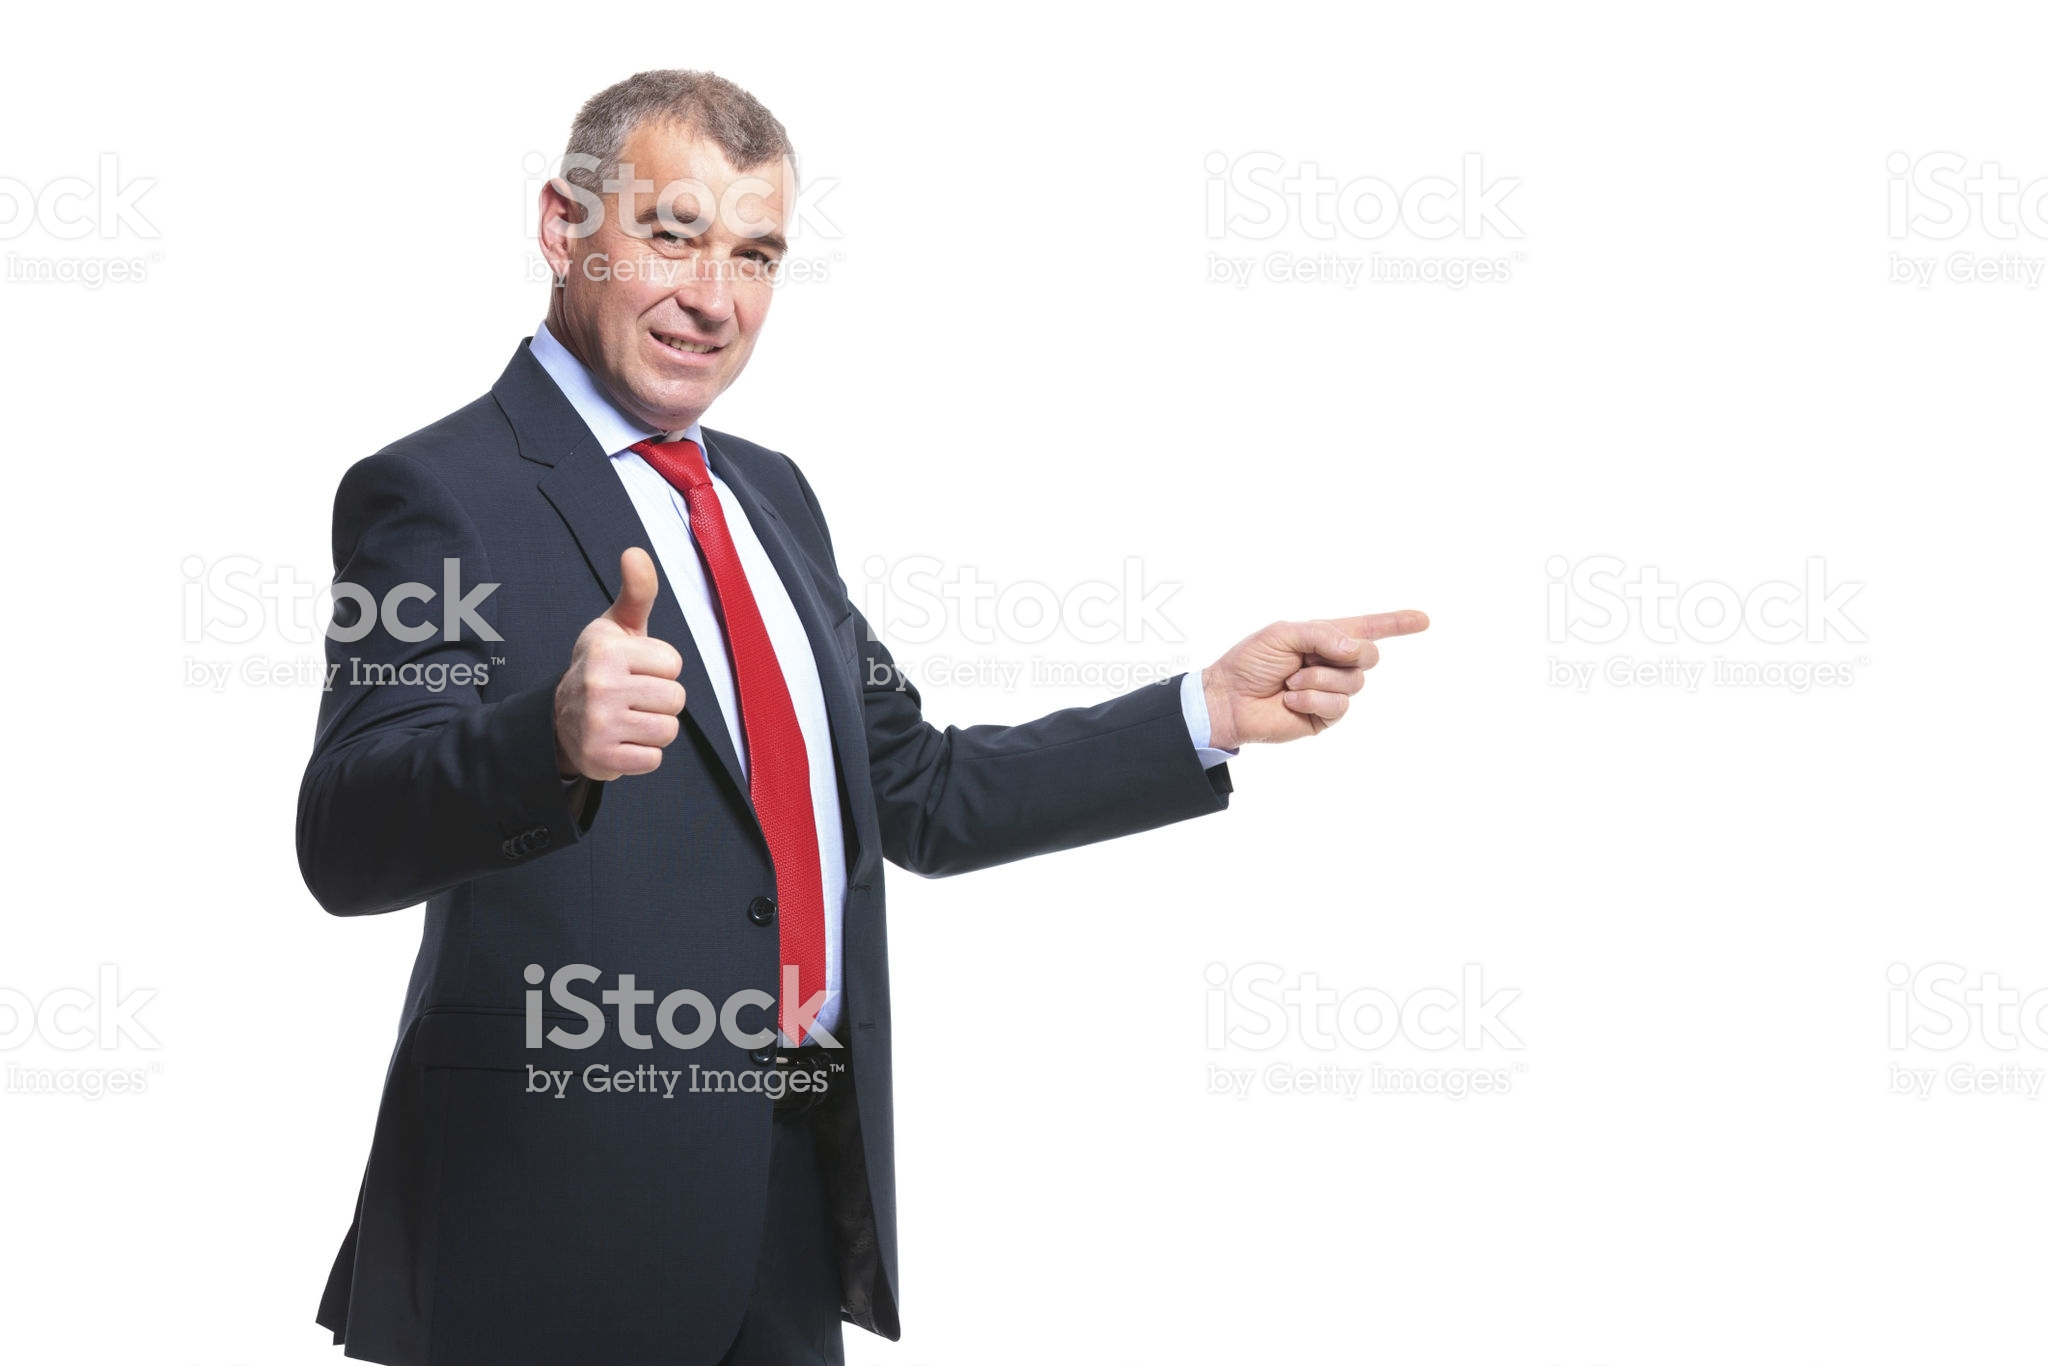thumbsup: (568, 544, 687, 787)
